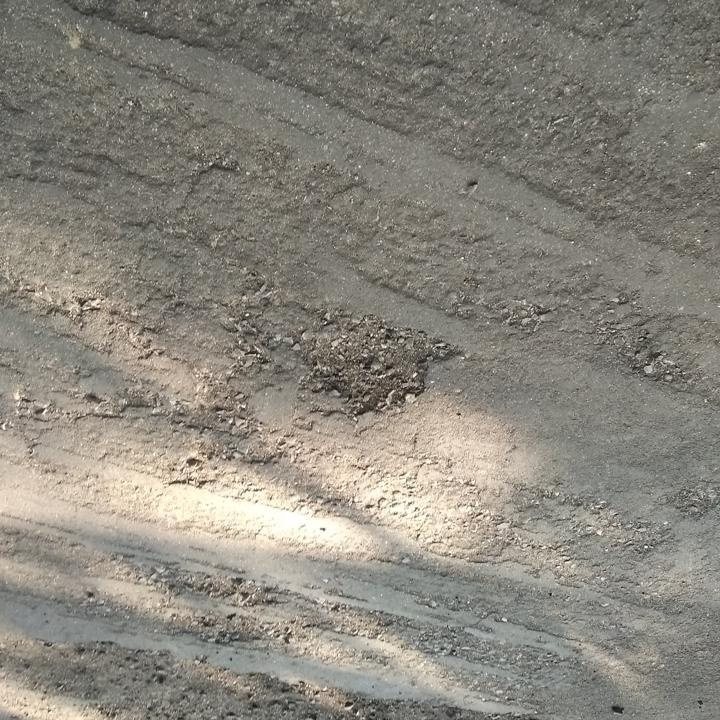pothole: (291, 309, 460, 418), (181, 570, 278, 610), (178, 612, 271, 647)
